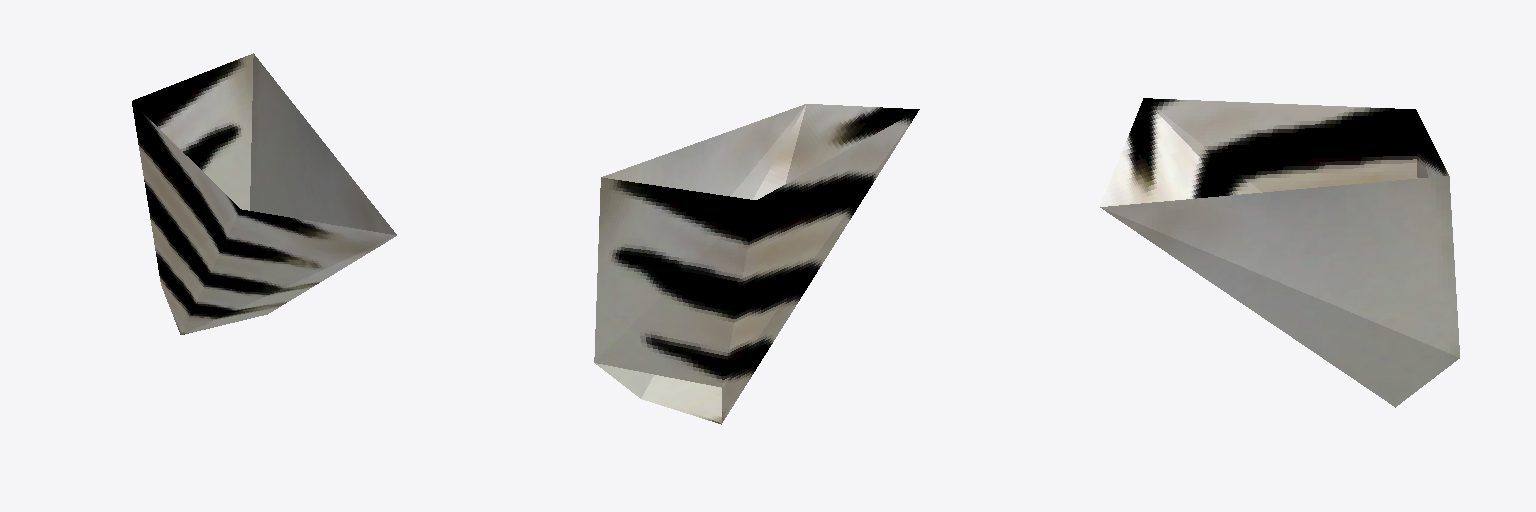
3 renders of one model, left to right at view 1: azimuth 30°, elevation 25°; view 2: azimuth 150°, elevation 25°; view 3: azimuth 270°, elevation 25°, orthographic.
Visible parts, largest first — view 1: ZBRU; view 2: ZBRU; view 3: ZBRU.
Boxes of the visible parts, x1=… form: ZBRU: x1=132, y1=53, x2=396, y2=334; ZBRU: x1=594, y1=104, x2=919, y2=424; ZBRU: x1=1100, y1=98, x2=1459, y2=407.
Bounding box in the file's own units: 0.2474 × 0.341 × 0.4621.
1 materials, 1 textured.